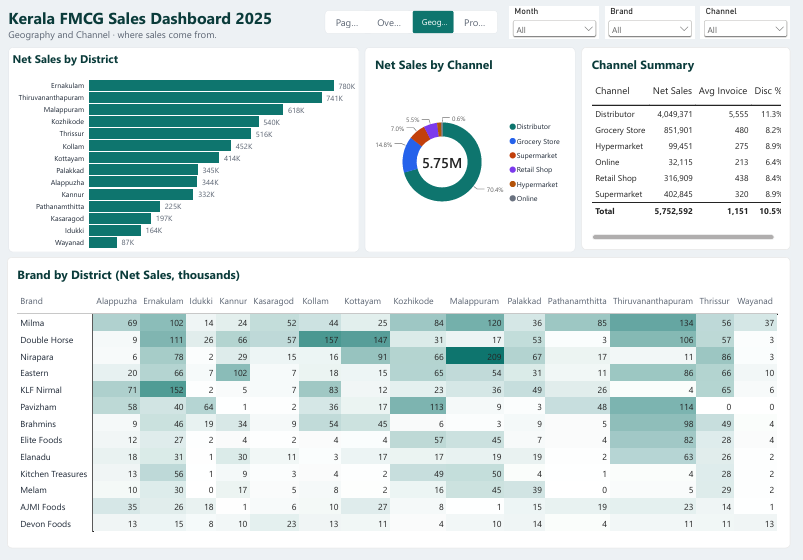

What the dashboard file says about the page in this screenshot:
{"tool":"powerbi","page":{"name":"Geography","canvas":[1350,940],"ordinal":1},"visuals":[{"type":"textbox","box":[20,10,520,62],"z":0},{"type":"slicer","fields":{"Values":["Dim_Date.Month"]},"box":[860,10,150,54],"z":1000},{"type":"slicer","fields":{"Values":["Sales.Brand"]},"box":[1020,10,150,54],"z":2000},{"type":"slicer","fields":{"Values":["Sales.Sales_Channel"]},"box":[1180,10,150,54],"z":3000},{"type":"pageNavigator","box":[550,16,290,40],"z":4000},{"type":"clusteredBarChart","title":"Net Sales by District","fields":{"Category":["Sales.District"],"Y":["Sales.Total Net Sales"]},"box":[19,77.6,584.5,344.8],"z":5000},{"type":"donutChart","title":"Net Sales by Channel","fields":{"Category":["Sales.Sales_Channel"],"Y":["Sales.Total Net Sales"]},"box":[614.3,77.1,348.3,344.8],"z":6000},{"type":"tableEx","title":"Channel Summary","fields":{"Values":["Sales.Sales_Channel","Sales.Net Sales Whole","Sales.Avg Invoice Value","Sales.Discount %"]},"box":[972.9,78.6,357.1,341.4],"z":7000},{"type":"pivotTable","title":"Brand by District (Net Sales, thousands)","fields":{"Columns":["Sales.District"],"Rows":["Sales.Brand"],"Values":["Sales.Net Sales K"]},"box":[18.3,430,1311.7,488.3],"z":8000}]}

Visuals, with their boxes in screenshot pixels (x1, y1, x2, y2), scaled from the page's 1350x940 canvas onto the 803x560 screenshot:
textbox: left=12, top=6, right=321, bottom=43
slicer - Dim_Date.Month: left=512, top=6, right=601, bottom=38
slicer - Sales.Brand: left=607, top=6, right=696, bottom=38
slicer - Sales.Sales_Channel: left=702, top=6, right=791, bottom=38
pageNavigator: left=327, top=10, right=500, bottom=33
"Net Sales by District" clusteredBarChart: left=11, top=46, right=359, bottom=252
"Net Sales by Channel" donutChart: left=365, top=46, right=573, bottom=251
"Channel Summary" tableEx: left=579, top=47, right=791, bottom=250
"Brand by District (Net Sales, thousands)" pivotTable: left=11, top=256, right=791, bottom=547
